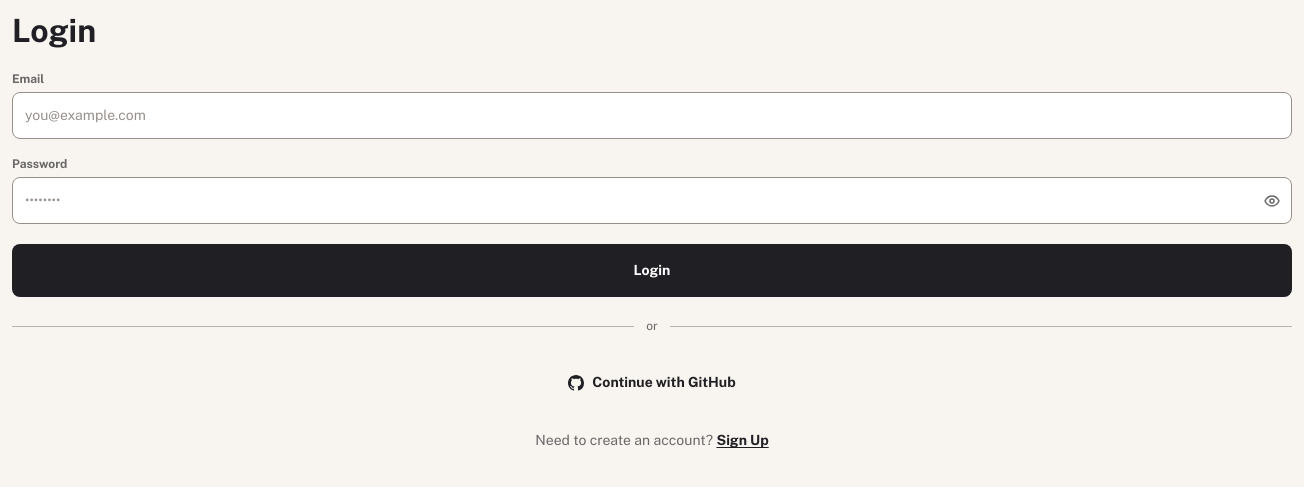
Test: LoginForm › validation › shows error for empty password on submit
Type "user@example.com" into the field labelled "Email".
click(652, 116); type("user@example.com")  # box [12,92,1292,139]
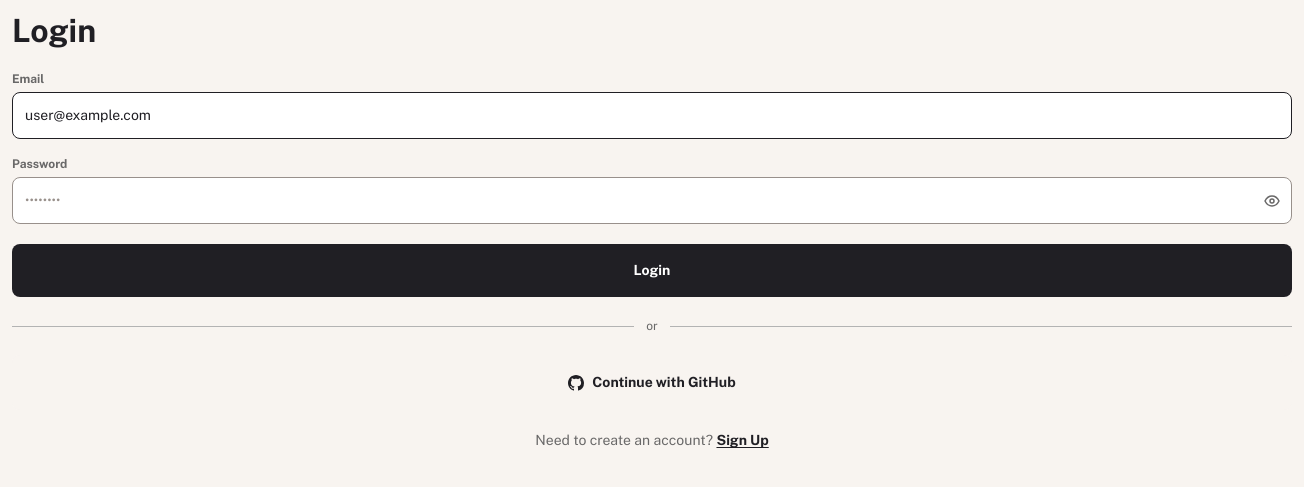
Click the button "Login".
click(652, 271)  # box [12,244,1292,297]
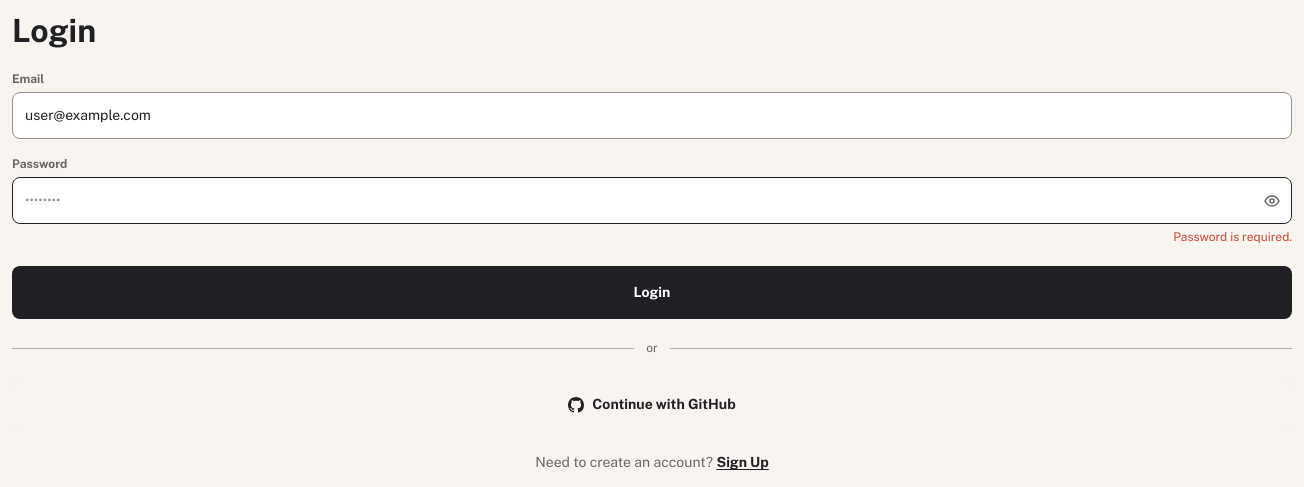
Now the text "Password is required." is shown, box [1173,230,1292,244]
